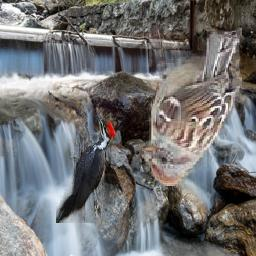Sparrow: (140, 26, 243, 187)
Woodpecker: (56, 109, 116, 224)
